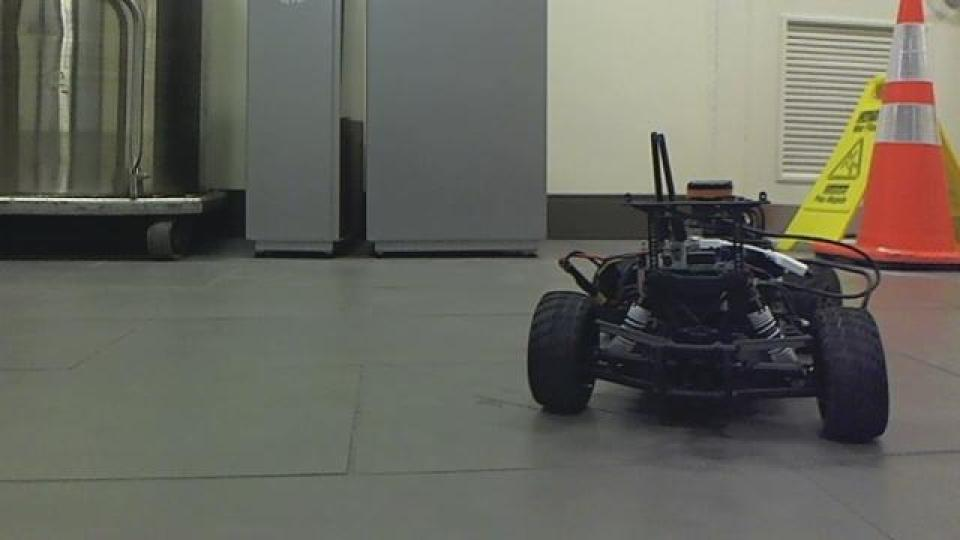car: (522, 129, 892, 447)
